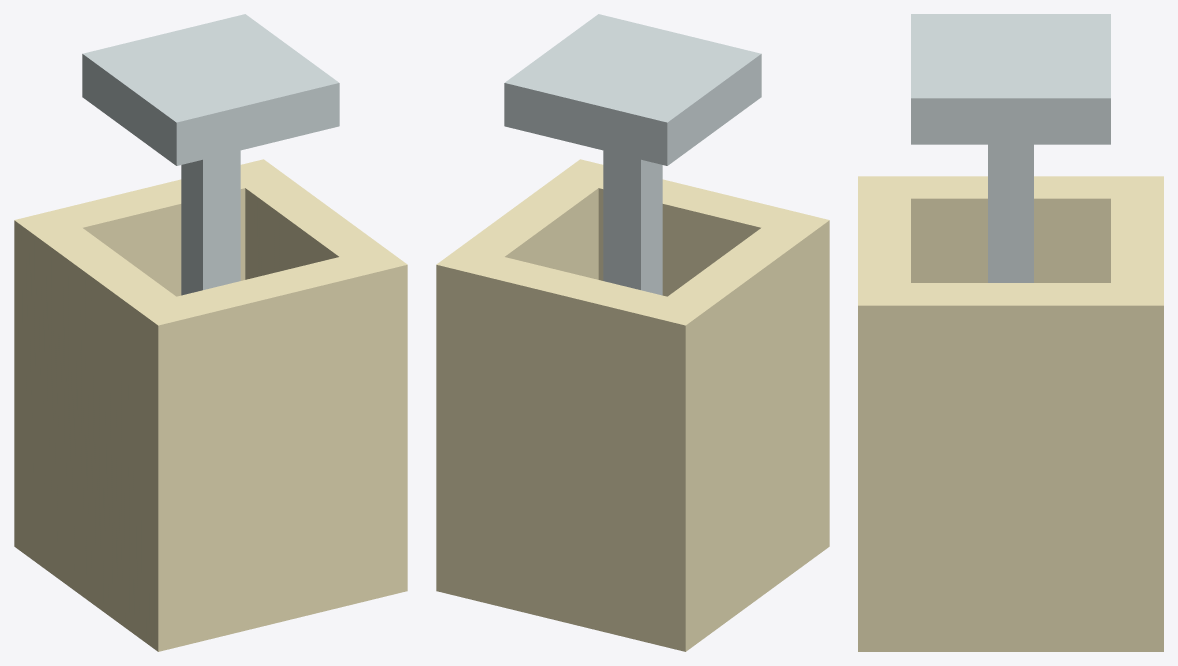
The model's file is lampSquareCeiling.glb.
3 views of the same model, side by side, from view 1: azimuth 30°, elevation 25°; view 2: azimuth 150°, elevation 25°; view 3: azimuth 270°, elevation 25° (orthographic). The views are drawn at different scales.
Visible parts, largest first — view 1: lampSquareCeiling(Clone); view 2: lampSquareCeiling(Clone); view 3: lampSquareCeiling(Clone).
Boxes of the visible parts, x1,y1,x2,y2 form: lampSquareCeiling(Clone): (14,14,407,651); lampSquareCeiling(Clone): (436,14,829,651); lampSquareCeiling(Clone): (858,14,1163,651).
Bounding box in the file's own units: 0.2436 × 0.4669 × 0.2436.
2 materials, 2 textured.
